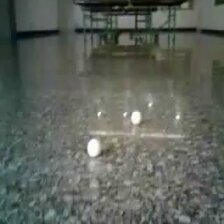w: (86, 138, 102, 156), (130, 111, 142, 125)
